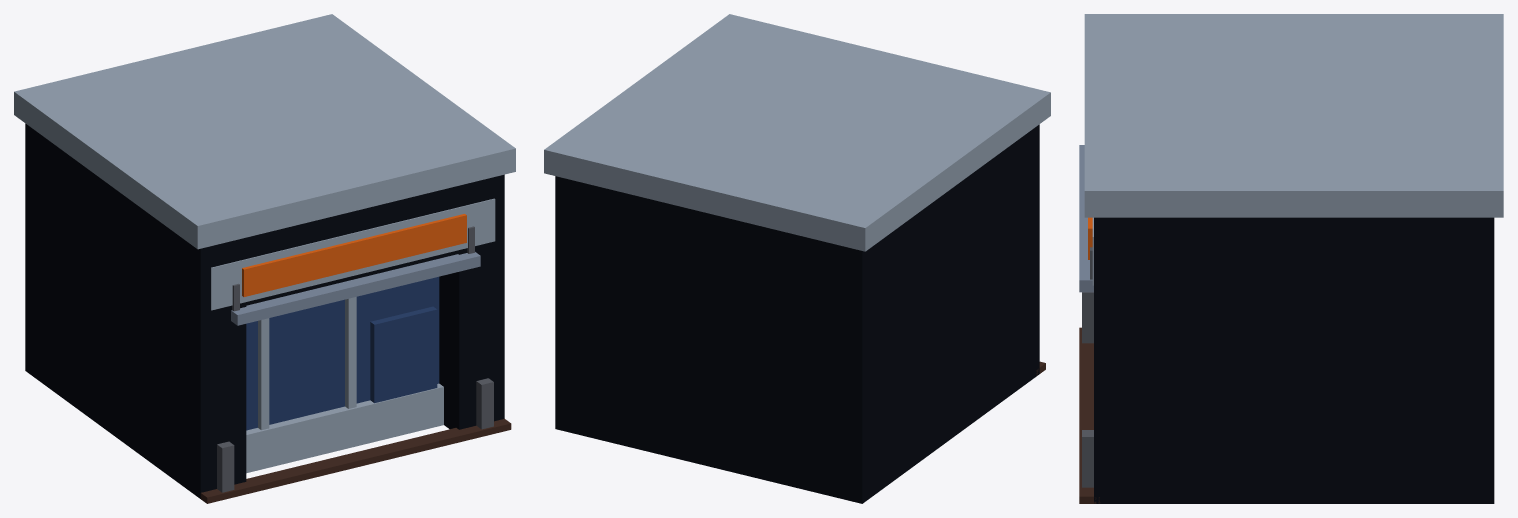
The model's file is shop1.obj.
The picture shows the model from 3 angles, left to right: view 1: azimuth 30°, elevation 25°; view 2: azimuth 150°, elevation 25°; view 3: azimuth 270°, elevation 25°; orthographic projection. The views are drawn at different scales.
Visible parts, largest first — view 1: shell, parapet, shopfront, mullions, sign, fascia, door, pavement, awning, bollards; view 2: shell, parapet; view 3: shell, parapet, pavement, bollards, awning.
Part boxes in pixels (x1=…): shell: x1=25, y1=123, x2=504, y2=498; parapet: x1=14, y1=14, x2=515, y2=249; shopfront: x1=246, y1=276, x2=439, y2=430; mullions: x1=246, y1=297, x2=443, y2=473; sign: x1=242, y1=214, x2=466, y2=296; fascia: x1=211, y1=198, x2=495, y2=310; door: x1=370, y1=306, x2=437, y2=403; pavement: x1=200, y1=418, x2=511, y2=503; awning: x1=231, y1=252, x2=480, y2=325; bollards: x1=217, y1=378, x2=493, y2=492; shell: x1=555, y1=124, x2=1039, y2=503; parapet: x1=544, y1=14, x2=1050, y2=251; shell: x1=1094, y1=217, x2=1494, y2=503; parapet: x1=1084, y1=14, x2=1503, y2=217; pavement: x1=1079, y1=327, x2=1100, y2=503; bollards: x1=1082, y1=292, x2=1093, y2=487; awning: x1=1079, y1=145, x2=1093, y2=292.
Bounding box in the file's own units: 3.14 × 2.62 × 3.18.
